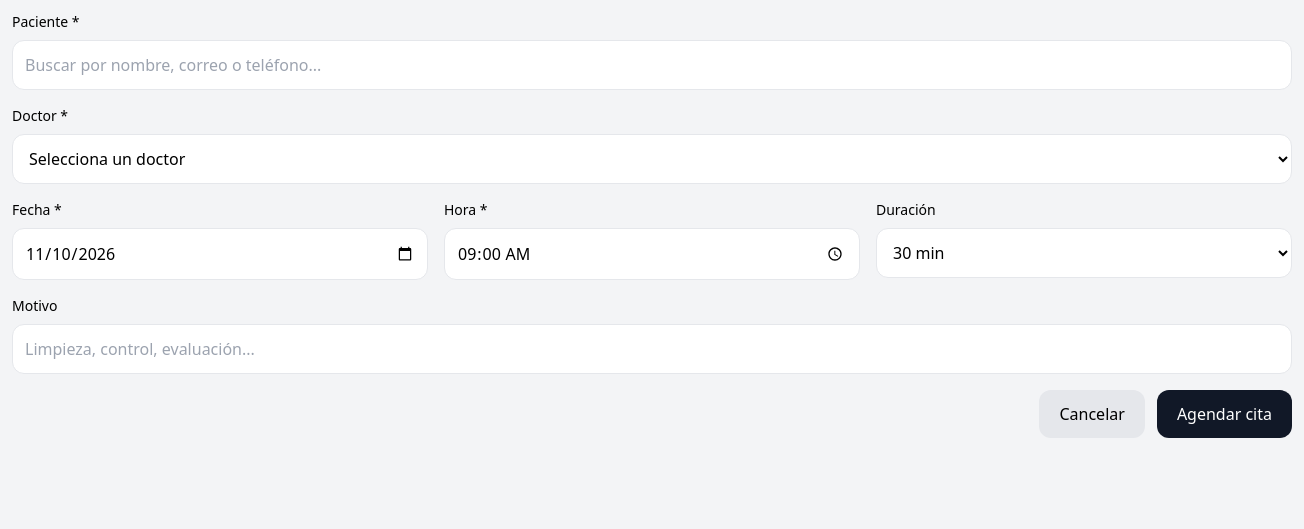
Test: AppointmentForm › muestra con qué cita choca un 409
The width and height of the screenshot is (1304, 529).
Type "eva" into the field labelled "Paciente *".
click(652, 65); type("eva")  # box [12,40,1292,90]
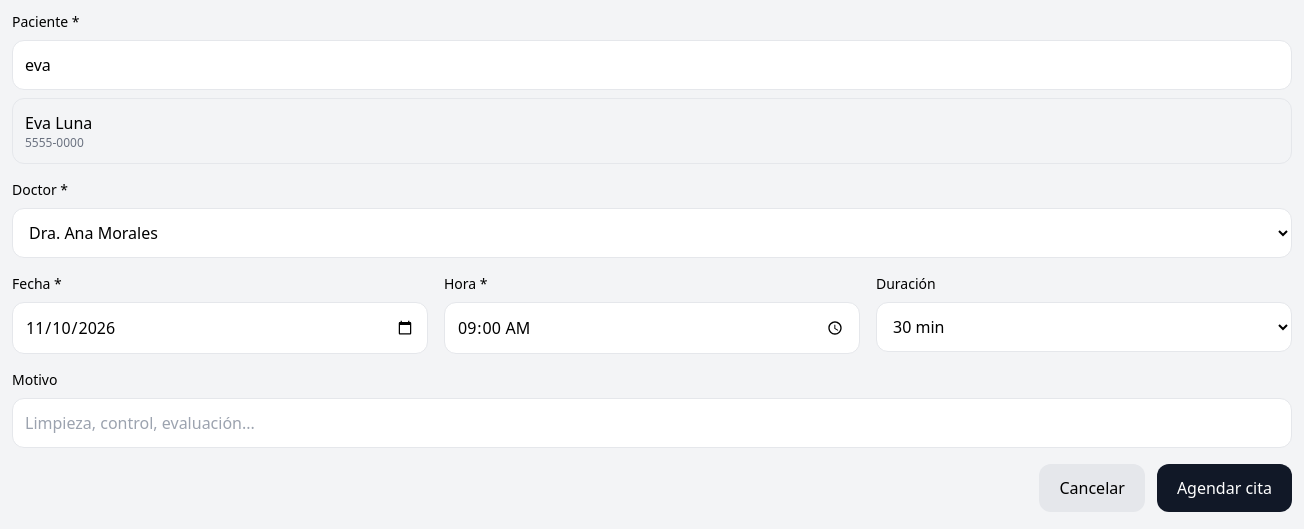
Click the button "Eva Luna 5555-0000".
click(74, 123)  # box [13,99,1291,163]
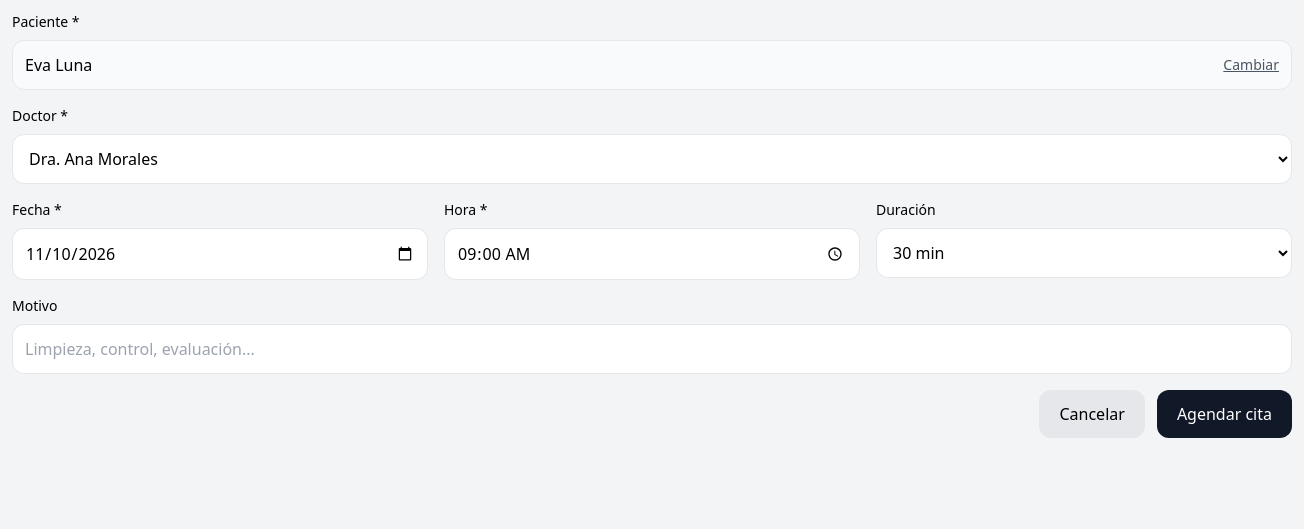
Click the button "Agendar cita".
click(1224, 414)  # box [1157,390,1292,438]
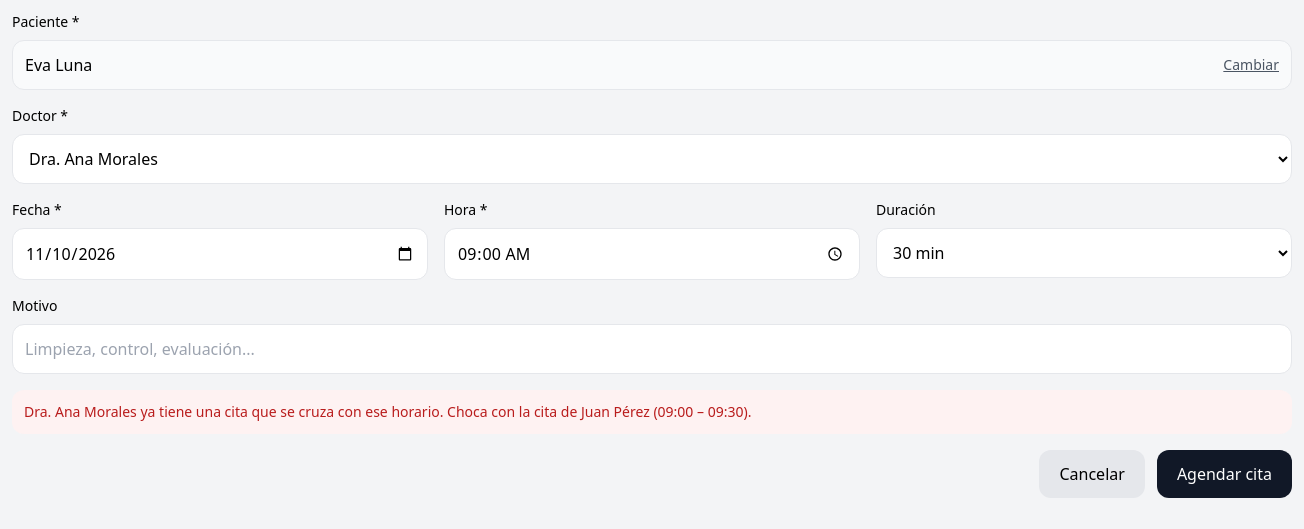
Check: the message shows "Dra. Ana Morales ya tiene una cita que se cruza con ese horario. Choca con la cita de Juan Pérez (09:00 – 09:30).", box [24,402,751,421]
